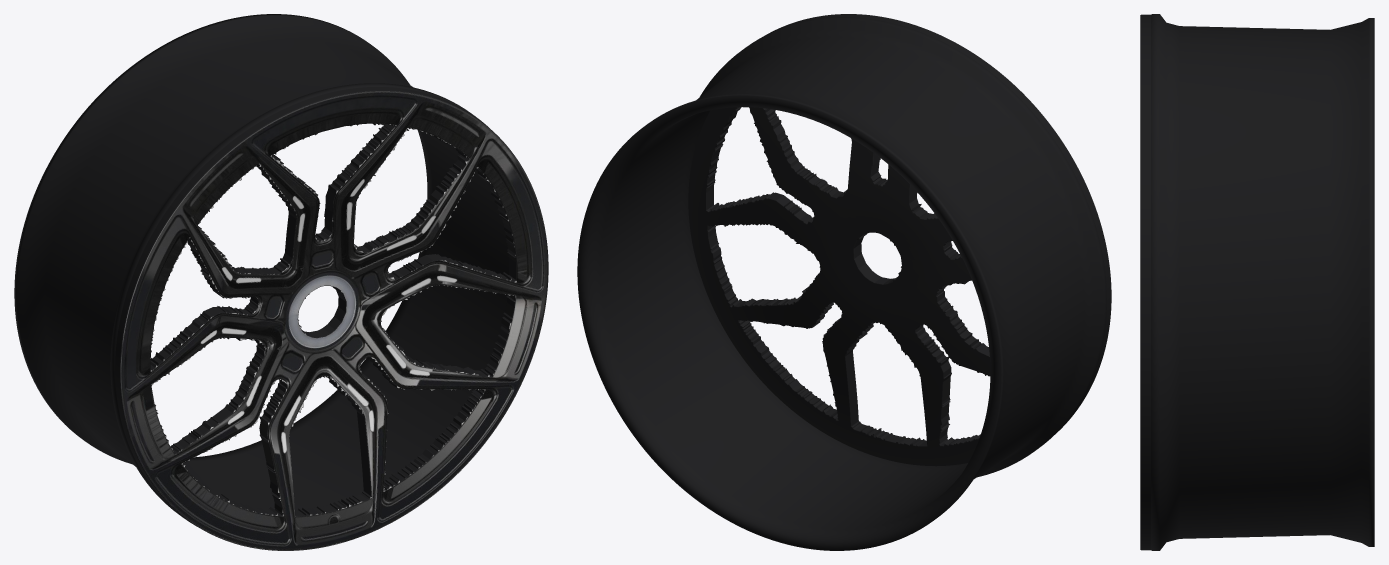
File: motivo-mb-l.glb
3 views of the same model, side by side, from view 1: azimuth 30°, elevation 25°; view 2: azimuth 150°, elevation 25°; view 3: azimuth 270°, elevation 25° (orthographic). The views are drawn at different scales.
Visible parts, largest first — view 1: Photo_traced_face_0, Approximate_rear_barrel; view 2: Approximate_rear_barrel, Photo_traced_face_0; view 3: Approximate_rear_barrel, Photo_traced_face_0.
Boxes of the visible parts, x1,y1,x2,y2 form: Photo_traced_face_0: [115, 87, 548, 550]; Approximate_rear_barrel: [14, 14, 508, 526]; Approximate_rear_barrel: [577, 17, 1106, 550]; Photo_traced_face_0: [688, 14, 1111, 466]; Approximate_rear_barrel: [1151, 14, 1374, 550]; Photo_traced_face_0: [1140, 14, 1150, 550].
Size of the model in its own units: 2.06 by 2.06 by 0.9.
2 materials, 1 textured.
